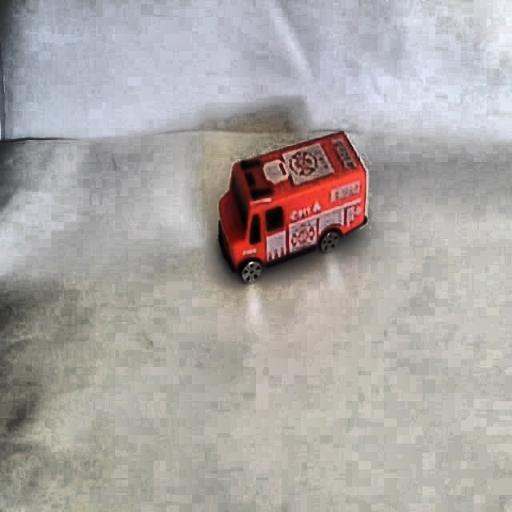fire_truck: (210, 128, 368, 286), (216, 188, 246, 266)
